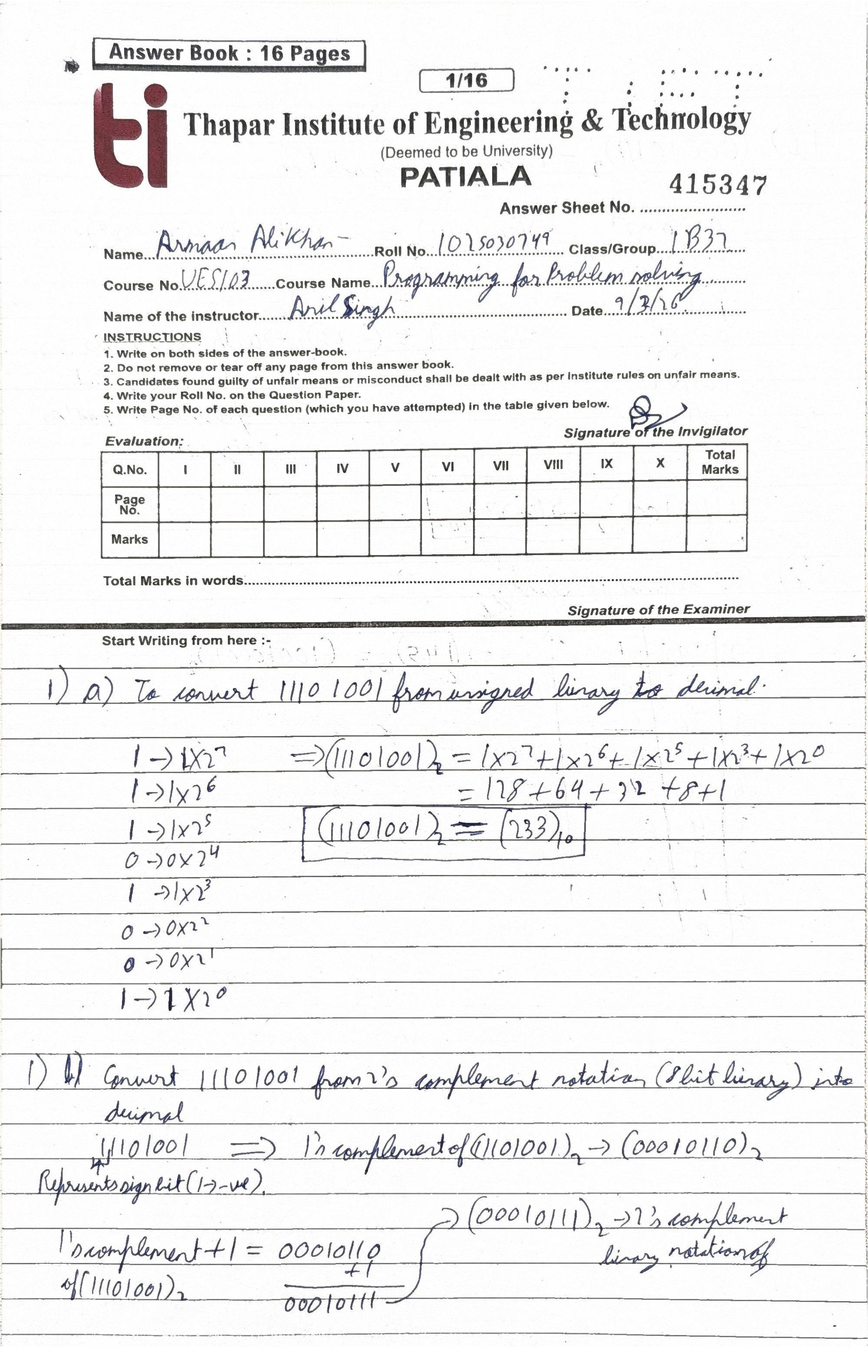cuttings: (742, 1236, 779, 1278)
